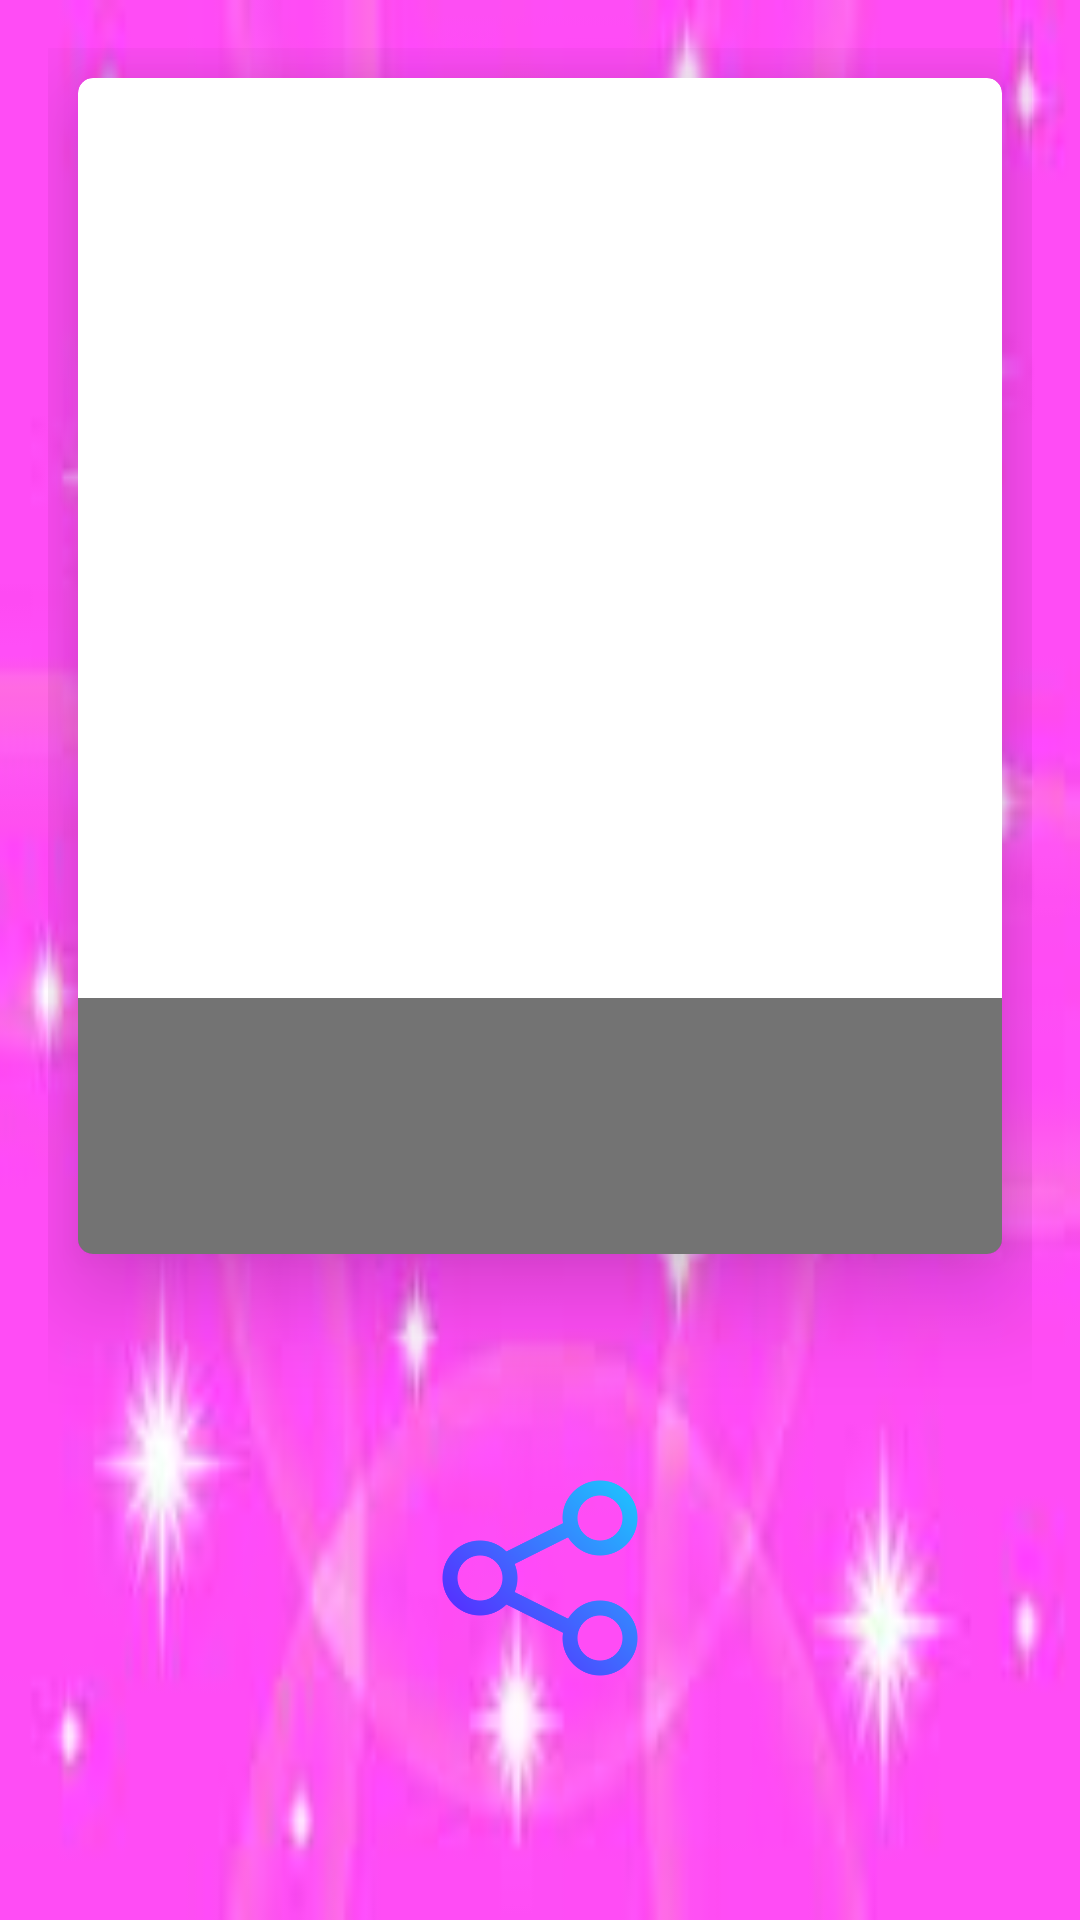

Where to tap for icons on this 1080px×1920px app screen, as (x=x, y=y):
share: (x=551, y=1578)
